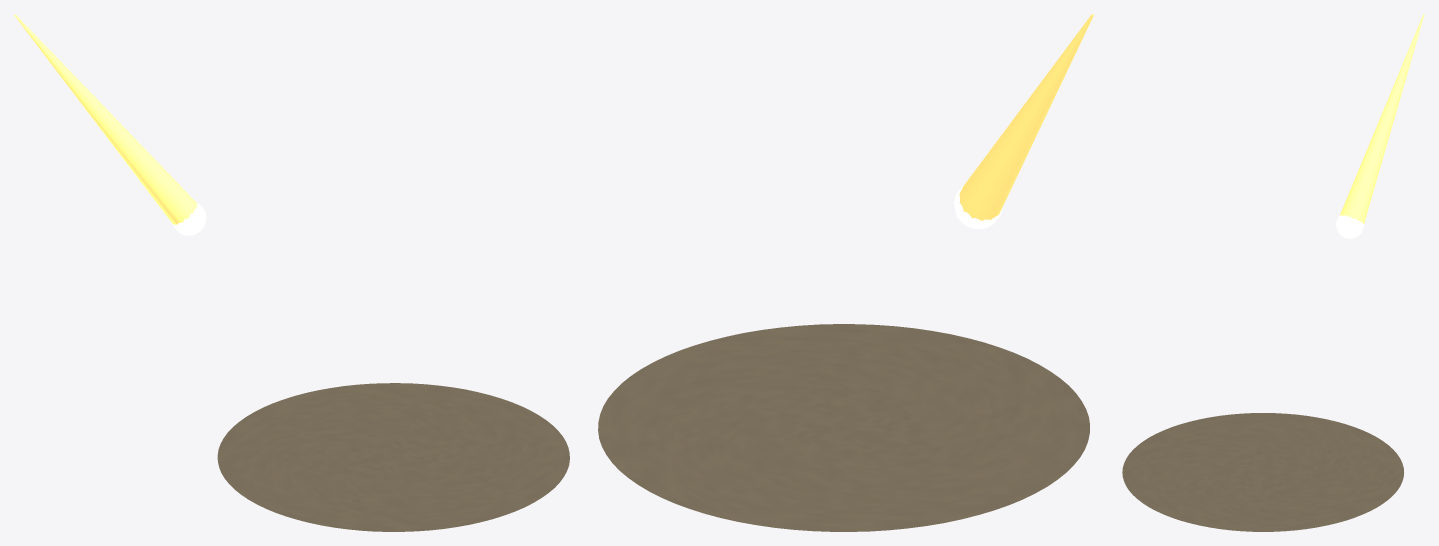
The model's file is impact-b15.glb.
3 views of the same model, side by side, from view 1: azimuth 30°, elevation 25°; view 2: azimuth 150°, elevation 25°; view 3: azimuth 270°, elevation 25° (orthographic). The views are drawn at different scales.
Visible parts, largest first — view 1: ground, trail; view 2: ground, trail, bolide; view 3: ground, trail, bolide.
Part boxes in pixels (x1,y1,x2,y2): ground: (217,383,569,531); trail: (14,14,197,224); ground: (598,324,1089,531); trail: (959,14,1093,220); bolide: (954,185,1002,229); ground: (1122,413,1403,531); trail: (1340,14,1424,224); bolide: (1336,215,1364,238).
Size of the model in its own units: 24.05 by 23.29 by 18.23.
